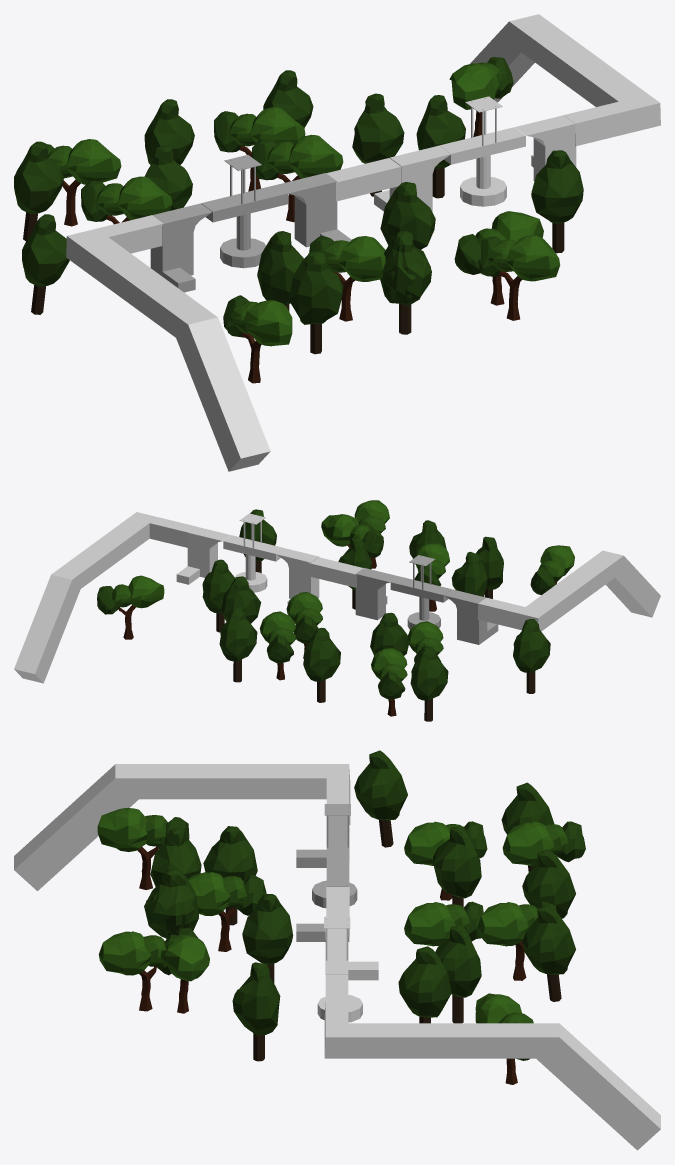
File: scene&trees.fbx
3 renders of one model, top to bottom at view 1: azimuth 30°, elevation 25°; view 2: azimuth 150°, elevation 25°; view 3: azimuth 270°, elevation 25°, orthographic. The views are drawn at different scales.
Visible parts, largest first — view 1: pCube3, pCube1, Cylinder1, pSphere7, pSphere4, pCylinder7, pCylinder2, pSphere10, pSphere5, pSphere9, pSphere12, pSphere11 (+14 smaller); view 2: pCube3, pCube1, Cylinder1, springtree1:pSphere4, pCylinder3, pCylinder9, pCylinder10, pCylinder11, pSphere8, pSphere11, pSphere9, pSphere5 (+13 smaller); view 3: pCube3, pCube1, Cylinder1, pSphere5, pSphere12, pCylinder3, pCylinder9, pSphere7, pSphere11, pCylinder2, pCylinder4, pCylinder8 (+14 smaller).
Part boxes in pixels (x1,y1,x2,y2): pCube3: [374, 14, 660, 211]; pCube1: [66, 215, 270, 471]; Cylinder1: [150, 155, 351, 292]; pSphere7: [478, 235, 560, 320]; pSphere4: [252, 134, 343, 222]; pCylinder7: [288, 251, 343, 354]; pCylinder2: [531, 150, 583, 253]; pSphere10: [81, 176, 172, 224]; pSphere5: [223, 295, 292, 383]; pSphere9: [214, 107, 305, 191]; pSphere12: [309, 235, 385, 321]; pSphere11: [46, 139, 121, 226]; pCube3: [14, 512, 319, 683]; pCube1: [477, 550, 660, 631]; Cylinder1: [355, 555, 498, 644]; springtree1:pSphere4: [97, 575, 164, 639]; pCylinder3: [513, 619, 550, 693]; pCylinder9: [219, 607, 257, 682]; pCylinder10: [410, 646, 448, 721]; pCylinder11: [303, 627, 340, 702]; pSphere8: [321, 514, 383, 557]; pSphere11: [371, 647, 407, 716]; pSphere9: [259, 611, 296, 680]; pSphere5: [530, 545, 574, 595]; pCube3: [317, 916, 660, 1150]; pCube1: [14, 764, 350, 890]; Cylinder1: [296, 804, 357, 941]; pSphere5: [97, 807, 189, 889]; pSphere12: [188, 872, 266, 951]; pCylinder3: [354, 750, 407, 847]; pCylinder9: [522, 905, 575, 1001]; pSphere7: [98, 931, 176, 1011]; pSphere11: [502, 821, 585, 865]; pCylinder2: [232, 962, 280, 1061]; pCylinder4: [398, 946, 451, 1023]; pCylinder8: [242, 894, 293, 983].
Bounding box in the file's own units: 20.43 × 4.92 × 19.46.
